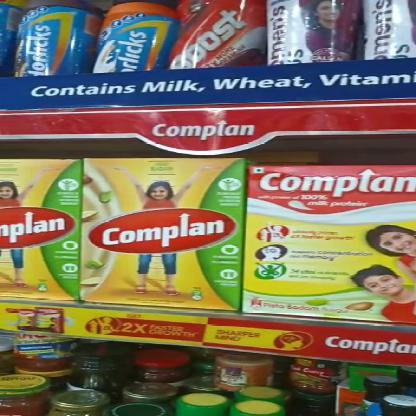Complan Pista Badam: (247, 161, 415, 316), (84, 159, 241, 307)
